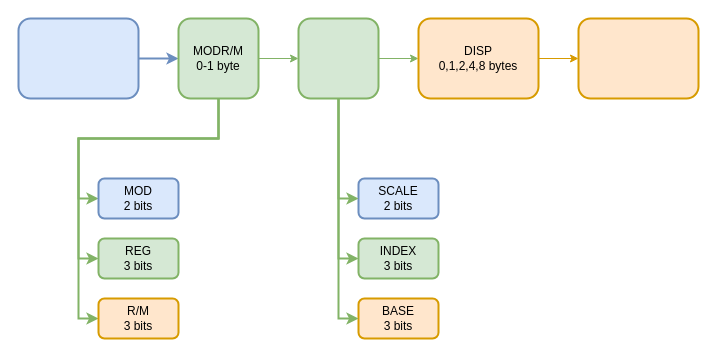
Image size: 716x356. Some labels were removed from this diagram. Here are the shapes that lost their labels. From the top down, the centre of each, then its label:
point 78,58: OPCODE 1-3 bytes
point 338,58: SIB 0-1 byte
point 638,58: IMM 0,1,2,4,8 bytes
